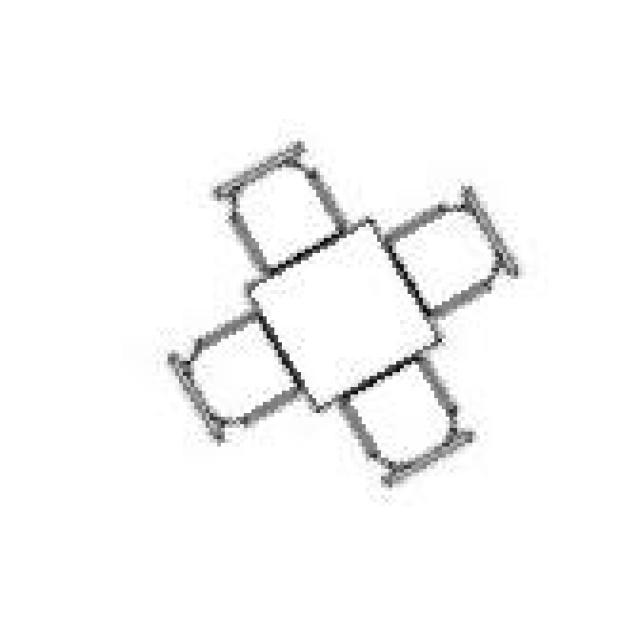table: (156, 134, 511, 487)
